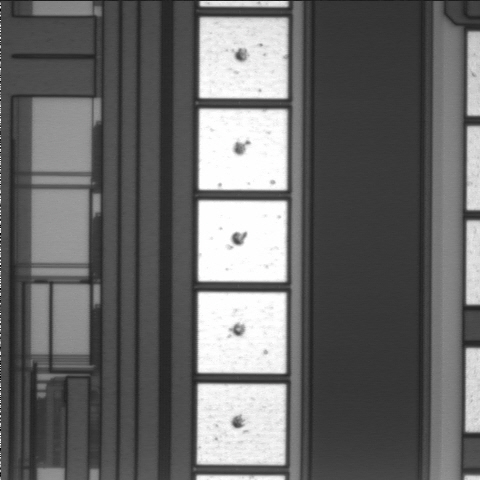pad: (199, 17, 288, 99), (198, 200, 287, 282), (198, 292, 286, 374), (198, 109, 287, 190), (197, 384, 286, 465)
